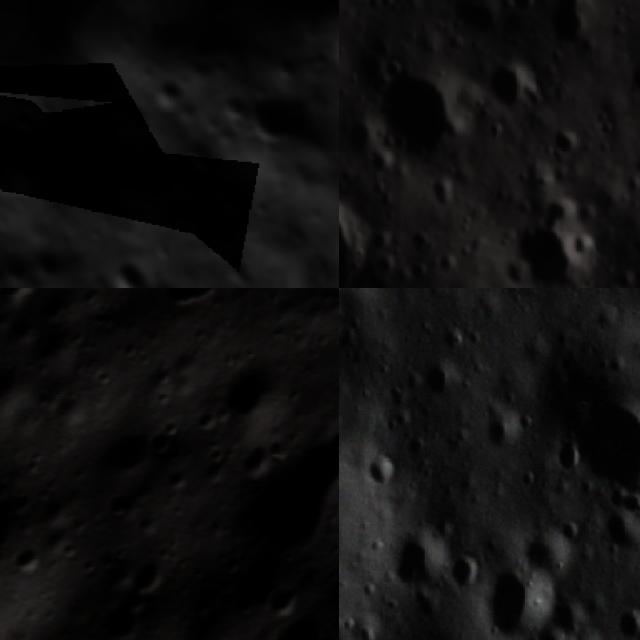crater: (214, 396, 339, 575), (0, 446, 73, 626), (371, 62, 462, 169), (230, 64, 328, 161), (573, 395, 640, 495), (128, 288, 249, 343), (482, 564, 555, 640), (381, 521, 445, 595), (87, 233, 173, 288), (511, 222, 582, 288), (93, 584, 172, 640), (133, 62, 195, 123), (263, 592, 339, 640), (164, 124, 222, 184), (251, 567, 308, 625), (480, 66, 538, 116), (414, 346, 463, 401), (542, 0, 592, 51), (479, 408, 524, 459), (339, 204, 365, 288), (603, 501, 640, 557), (316, 0, 339, 88), (364, 454, 398, 491), (546, 128, 578, 164), (612, 599, 640, 640), (624, 56, 640, 103), (512, 627, 564, 640)
